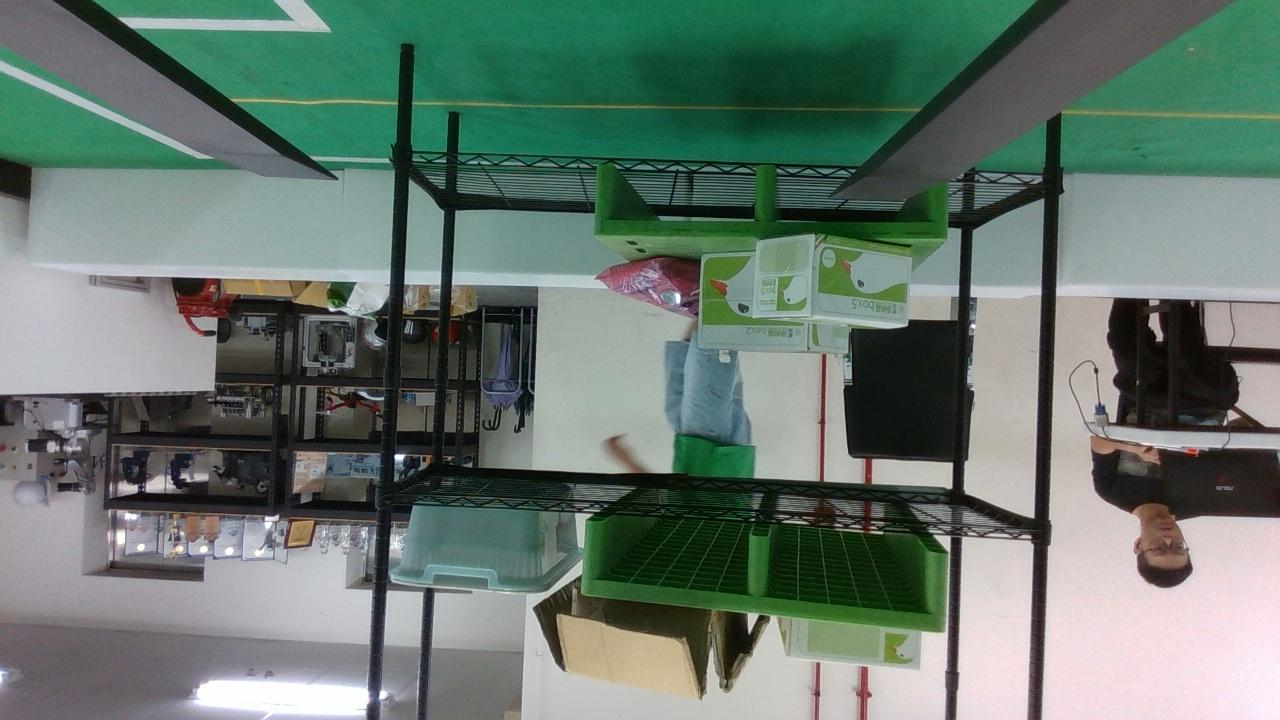Pallet: (571, 512, 951, 633), (592, 156, 950, 244)
